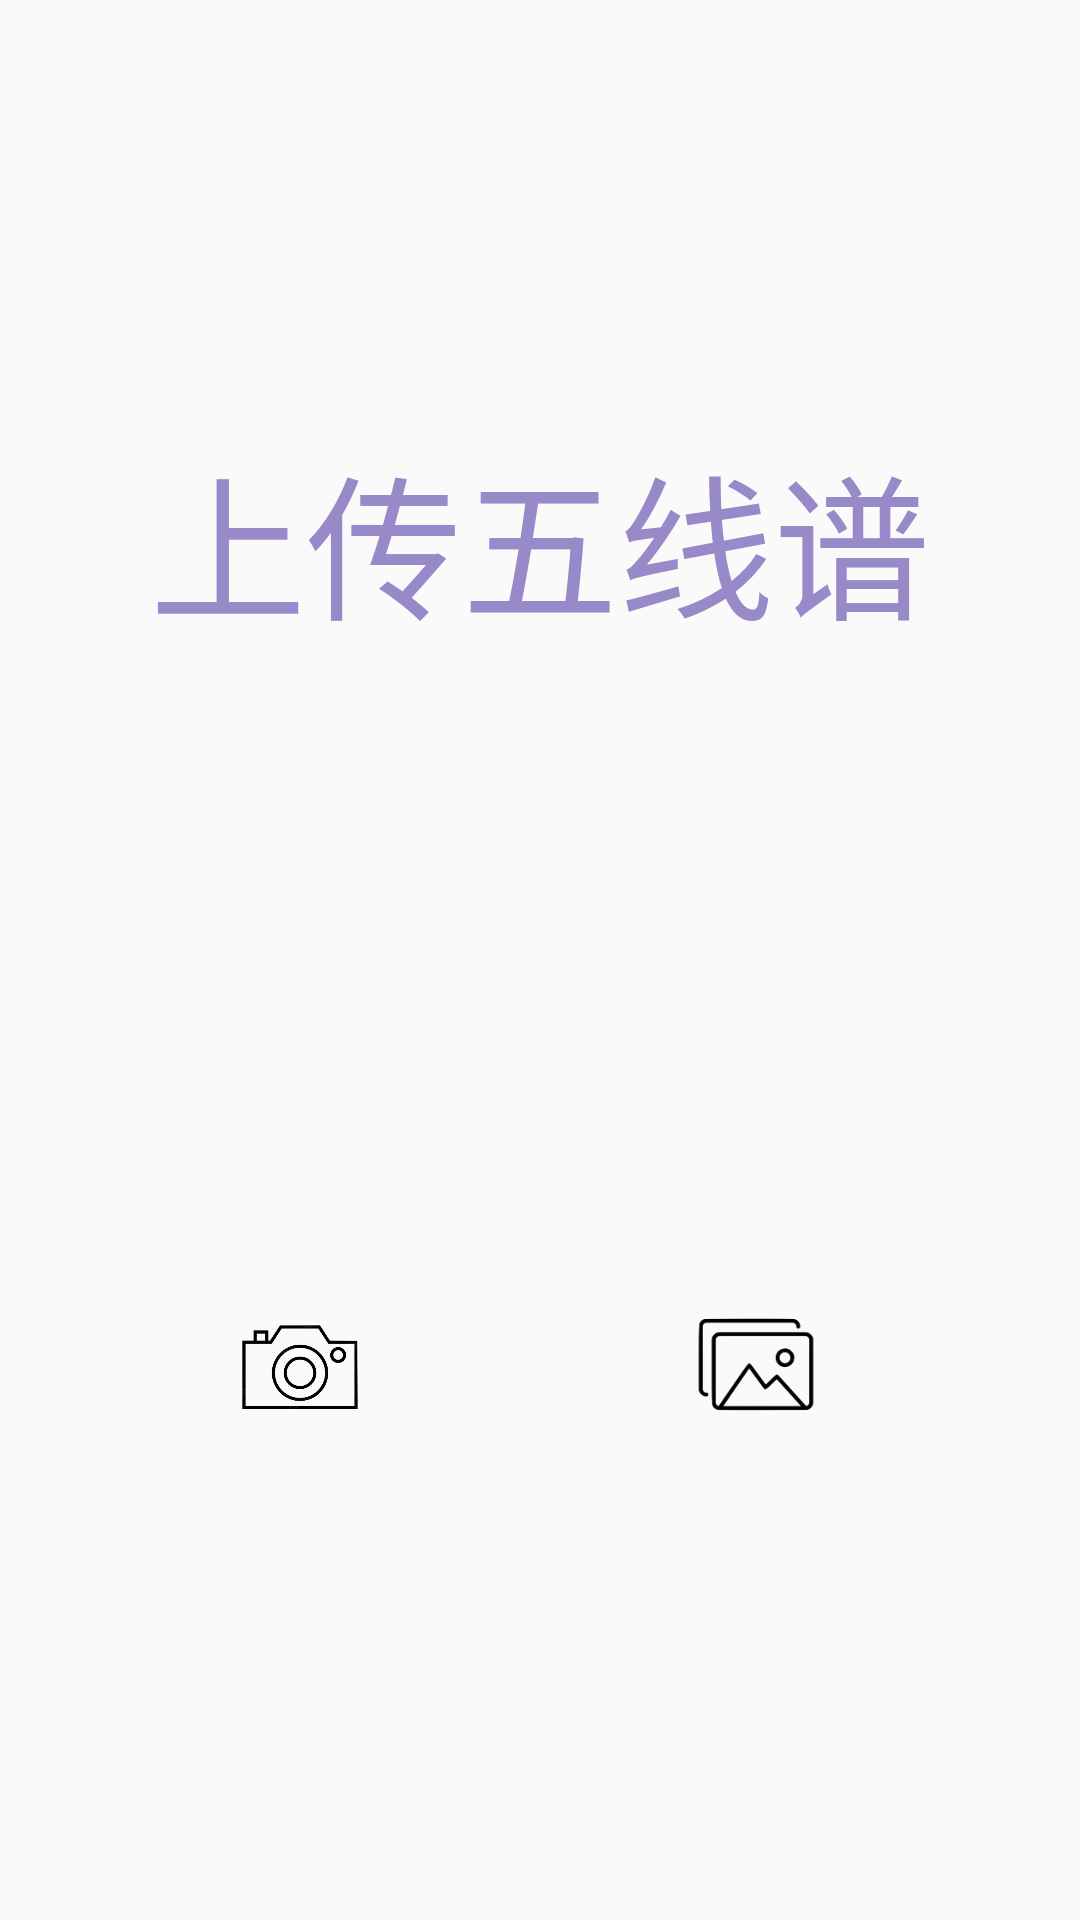

Point at icon controls on the screen. Image size 1080px×1920px, points as [x,y].
camera: [300,1367]
